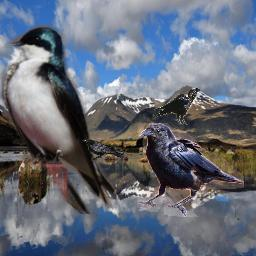Crow: (137, 123, 244, 217), (153, 88, 200, 125), (82, 139, 125, 161)
Swallow: (0, 24, 117, 214)
